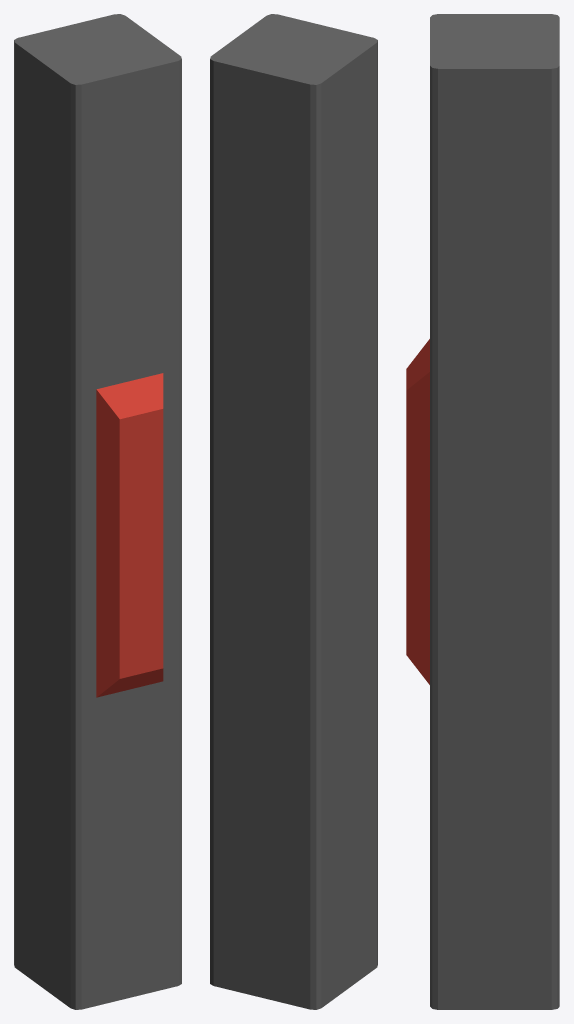
Rendered from WallStraight.fbx.
The picture shows the model from 3 angles, left to right: view 1: azimuth 30°, elevation 25°; view 2: azimuth 150°, elevation 25°; view 3: azimuth 270°, elevation 25°; orthographic projection.
Visible parts, largest first — view 1: Cube; view 2: Cube; view 3: Cube.
Boxes of the visible parts, bbox=[...] form: Cube: bbox=[14, 14, 181, 1009]; Cube: bbox=[210, 14, 377, 1009]; Cube: bbox=[406, 14, 559, 1009].
Size of the model in its own units: 50 by 400 by 59.14.
